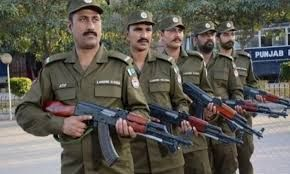gun: (41, 98, 187, 157), (189, 79, 264, 136), (149, 99, 242, 144), (225, 89, 285, 118), (245, 82, 290, 106)
uniform: (46, 54, 135, 171), (126, 45, 183, 166), (159, 45, 210, 165), (201, 48, 239, 166), (230, 46, 257, 168)
